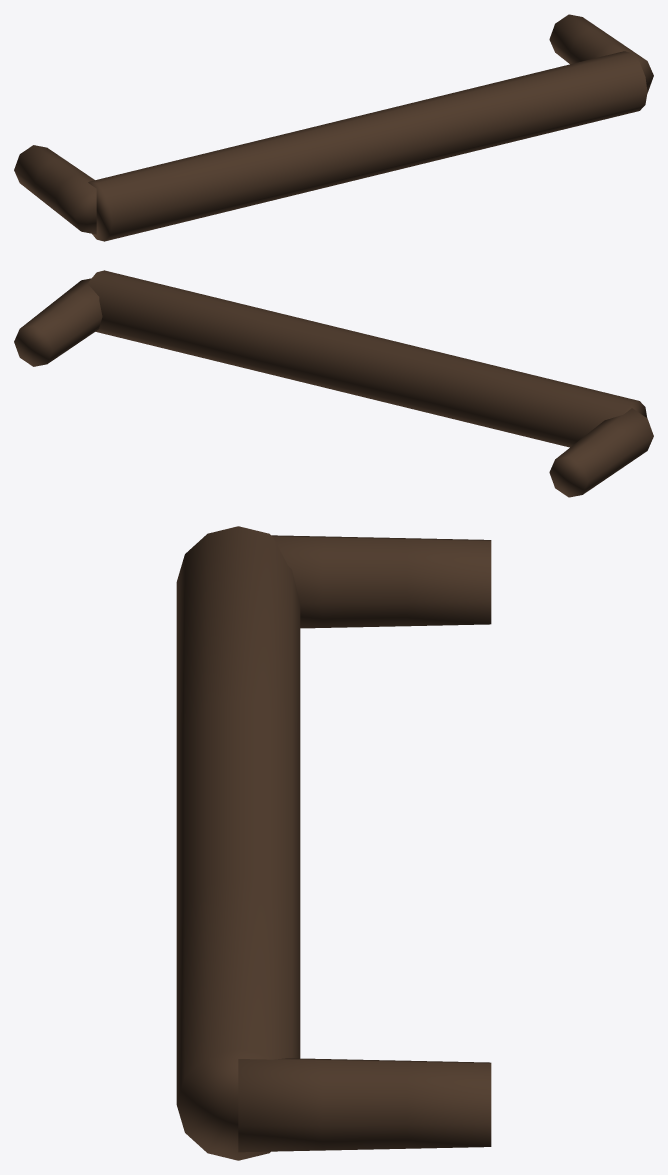
Rendered from FOREST_LOG_BRIDGE.obj.
3 renders of one model, top to bottom at view 1: azimuth 30°, elevation 25°; view 2: azimuth 150°, elevation 25°; view 3: azimuth 270°, elevation 25°, orthographic. The views are drawn at different scales.
Parts seen in each view (by area): view 1: log, root_l, root_r; view 2: log, root_l, root_r; view 3: log, root_r, root_l.
Part boxes in pixels (box(x1,y1,x2,y2)): log: box(88, 51, 647, 241); root_l: box(14, 145, 96, 234); root_r: box(549, 14, 653, 93); log: box(88, 270, 647, 447); root_l: box(549, 408, 653, 497); root_r: box(14, 278, 102, 366); log: box(176, 526, 300, 1160); root_r: box(238, 1058, 491, 1152); root_l: box(271, 535, 491, 628).
Bounding box in the file's own units: 4.76 × 0.44 × 1.12.
